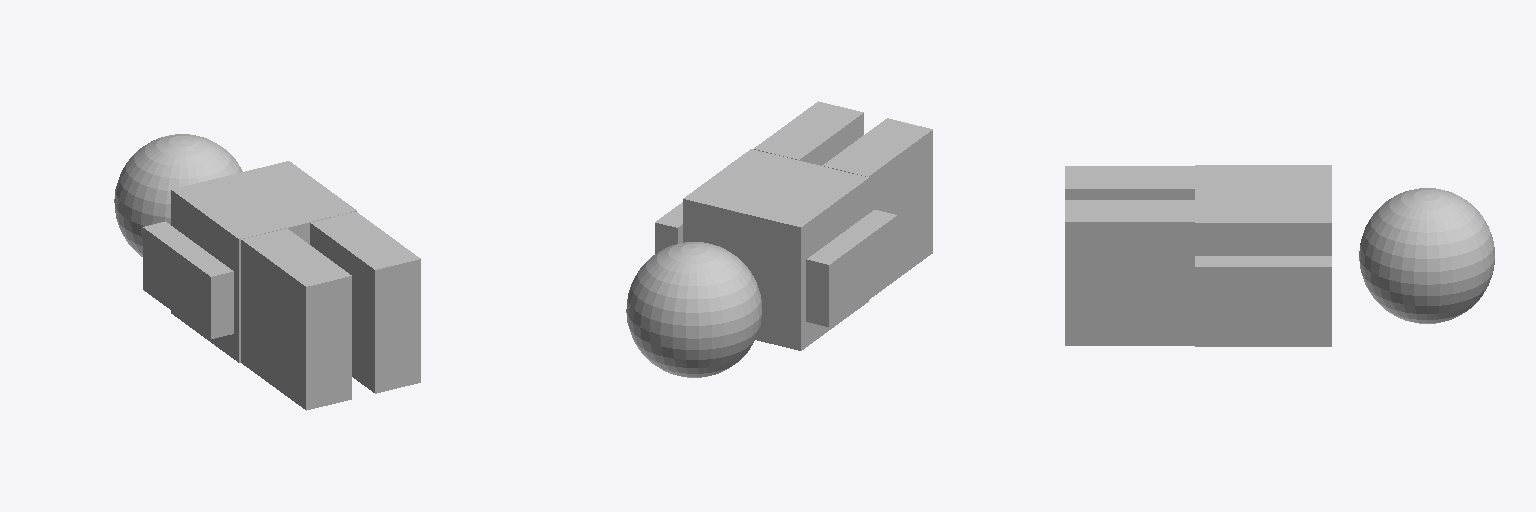
File: rocky_robot_animation_000007.obj
3 renders of one model, left to right at view 1: azimuth 30°, elevation 25°; view 2: azimuth 150°, elevation 25°; view 3: azimuth 270°, elevation 25°, orthographic.
Parts seen in each view (by area): view 1: Cube.001_Cube.005, Cube.002, Cube, Sphere.001, Cube.004; view 2: Cube, Sphere.001, Cube.001_Cube.005, Cube.004, Cube.002, Cube.003; view 3: Cube.002, Cube, Sphere.001, Cube.003, Cube.001_Cube.005.
Part boxes in pixels (bbox=[...]): Cube.001_Cube.005: bbox=[241, 228, 351, 410]; Cube.002: bbox=[310, 212, 420, 393]; Cube: bbox=[171, 161, 356, 362]; Sphere.001: bbox=[114, 134, 242, 256]; Cube.004: bbox=[143, 221, 233, 338]; Cube: bbox=[683, 149, 868, 350]; Sphere.001: bbox=[626, 242, 761, 377]; Cube.001_Cube.005: bbox=[822, 118, 932, 299]; Cube.004: bbox=[806, 210, 897, 327]; Cube.002: bbox=[754, 101, 863, 165]; Cube.003: bbox=[655, 202, 682, 253]; Cube.002: bbox=[1065, 200, 1194, 345]; Cube: bbox=[1195, 165, 1331, 346]; Sphere.001: bbox=[1359, 188, 1494, 323]; Cube.003: bbox=[1195, 256, 1331, 329]; Cube.001_Cube.005: bbox=[1065, 166, 1194, 199].
Size of the model in its own units: 0.76 by 0.514 by 1.62.